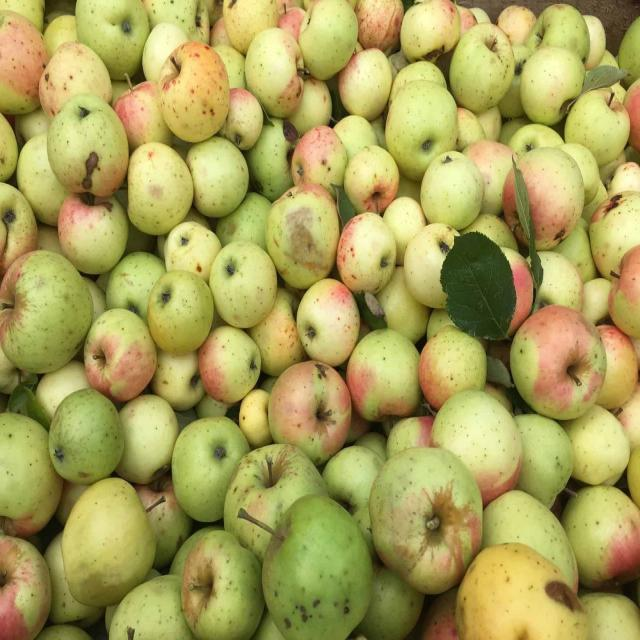Fresh Apple: (516, 318, 612, 430), (430, 387, 525, 495), (168, 415, 250, 525), (510, 144, 583, 254), (122, 140, 192, 235), (448, 28, 517, 114), (345, 334, 415, 418), (422, 142, 486, 233), (185, 133, 248, 220), (340, 212, 400, 302), (416, 334, 486, 408), (297, 285, 363, 362), (517, 52, 585, 125), (148, 278, 215, 352), (390, 87, 448, 170), (200, 330, 268, 400), (337, 45, 393, 117)
Rotten: (366, 447, 486, 598), (268, 184, 340, 298), (155, 44, 235, 144), (52, 107, 130, 203)
